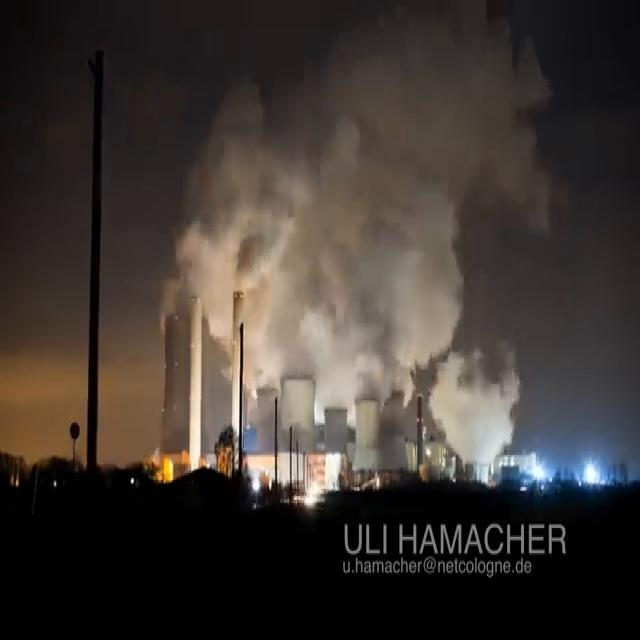smoke: (159, 25, 544, 453), (431, 361, 516, 464)
